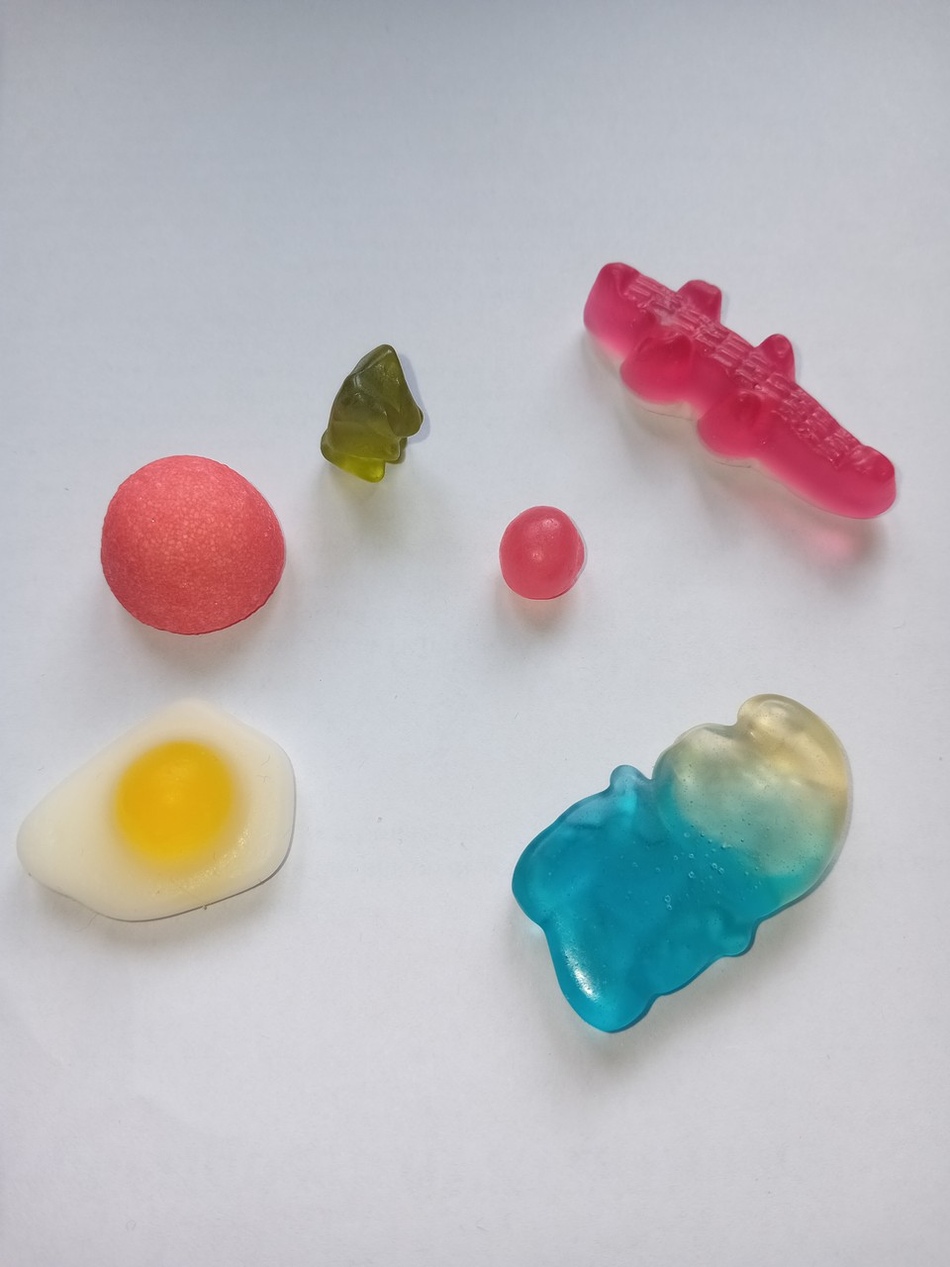crocodile_rouge: (576, 254, 905, 527)
dragibus_rouge: (486, 497, 588, 603)
oeuf_oeuf: (16, 695, 308, 923)
ourson_vert: (308, 335, 428, 486)
schtroumpf_bleu-blanc: (502, 689, 867, 1033)
tagada_fraise: (88, 450, 291, 644)
